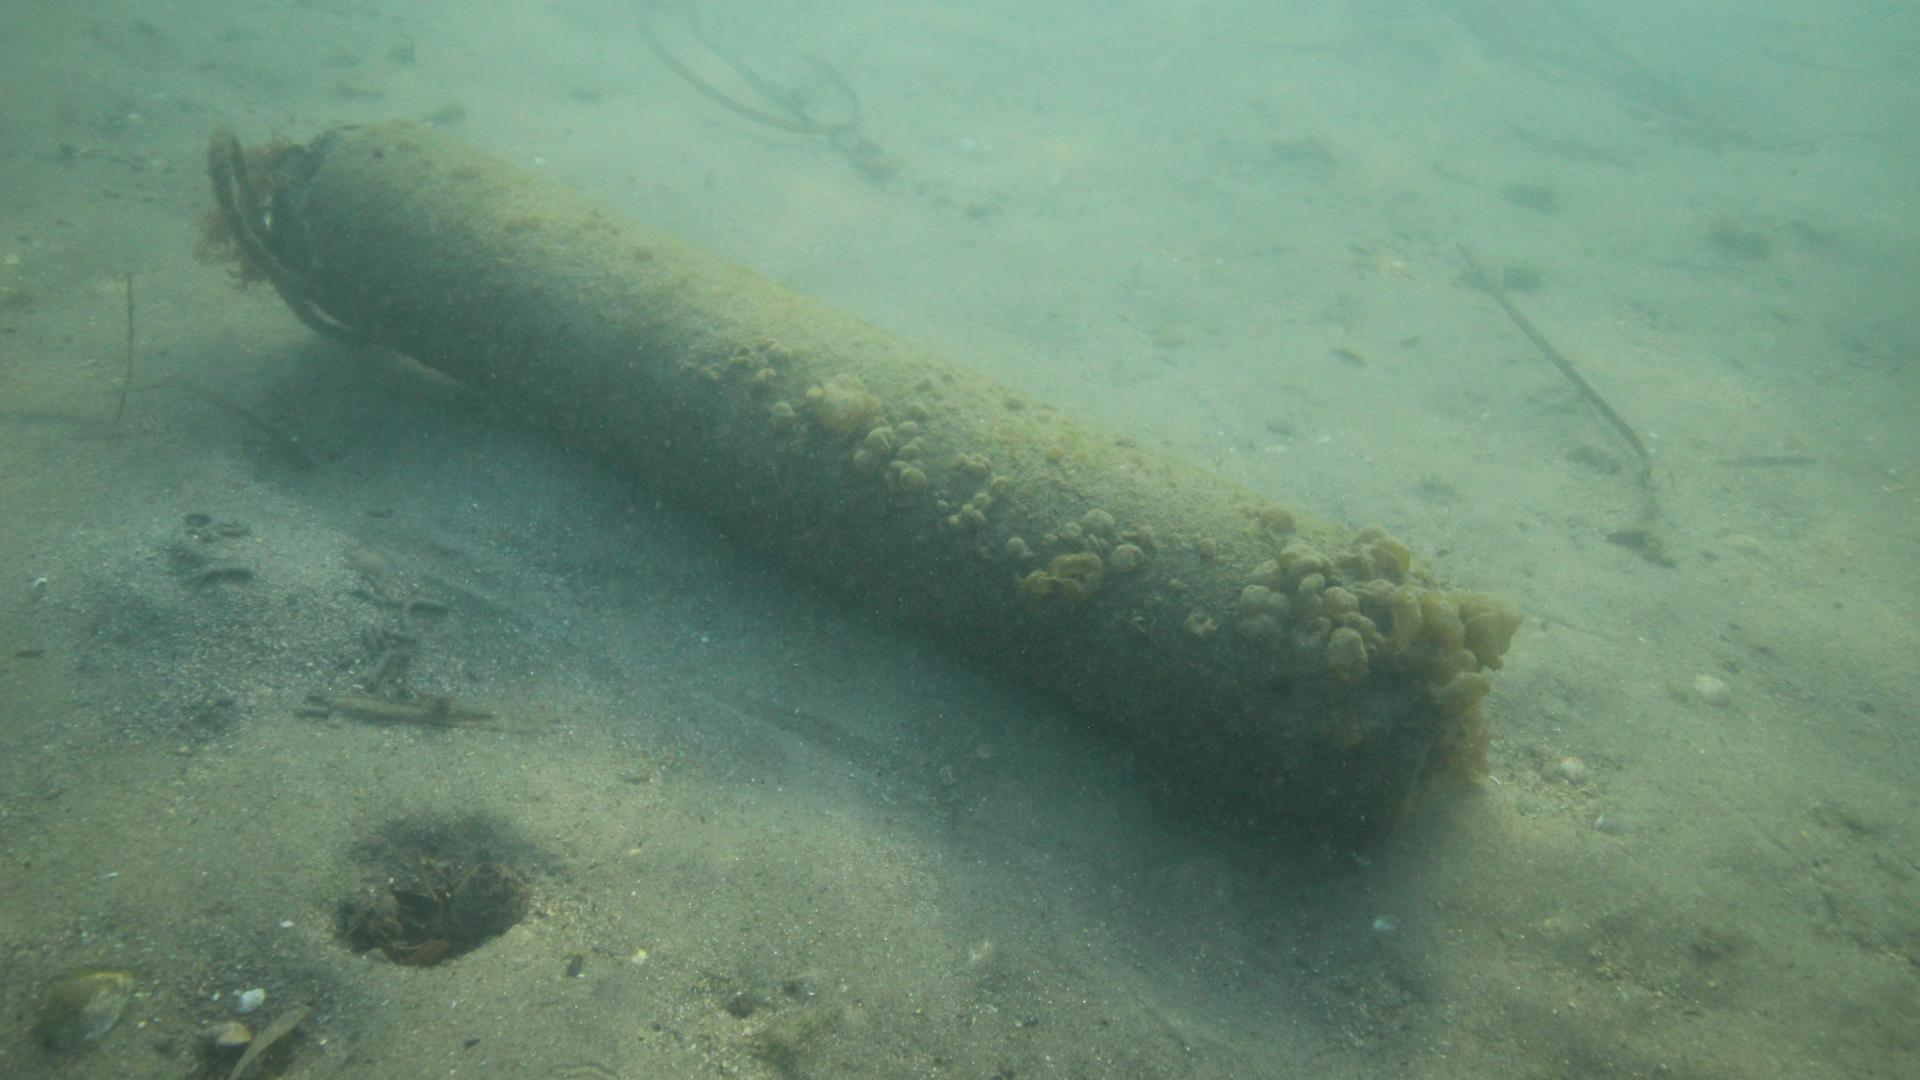eel fish trap: (273, 117, 1452, 836)
rope: (207, 127, 369, 344)
